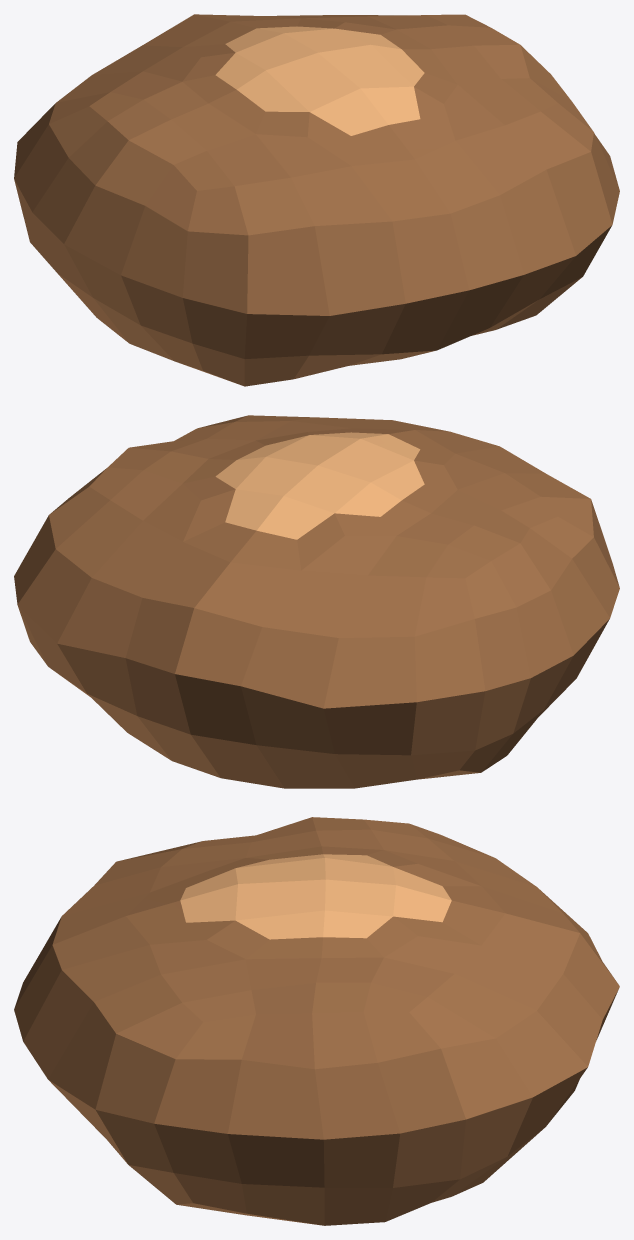
File: Hard Shell.fbx
3 views of the same model, one above another, from view 1: azimuth 30°, elevation 25°; view 2: azimuth 150°, elevation 25°; view 3: azimuth 270°, elevation 25° (orthographic). The views are drawn at different scales.
Parts seen in each view (by area): view 1: Hard Shell - VoidBeat; view 2: Hard Shell - VoidBeat; view 3: Hard Shell - VoidBeat.
Boxes of the visible parts, x1,y1,x2,y2 form: Hard Shell - VoidBeat: (14, 14, 619, 386); Hard Shell - VoidBeat: (14, 415, 619, 788); Hard Shell - VoidBeat: (14, 817, 619, 1225).
Size of the model in its own units: 59.08 by 29.78 by 59.14.
